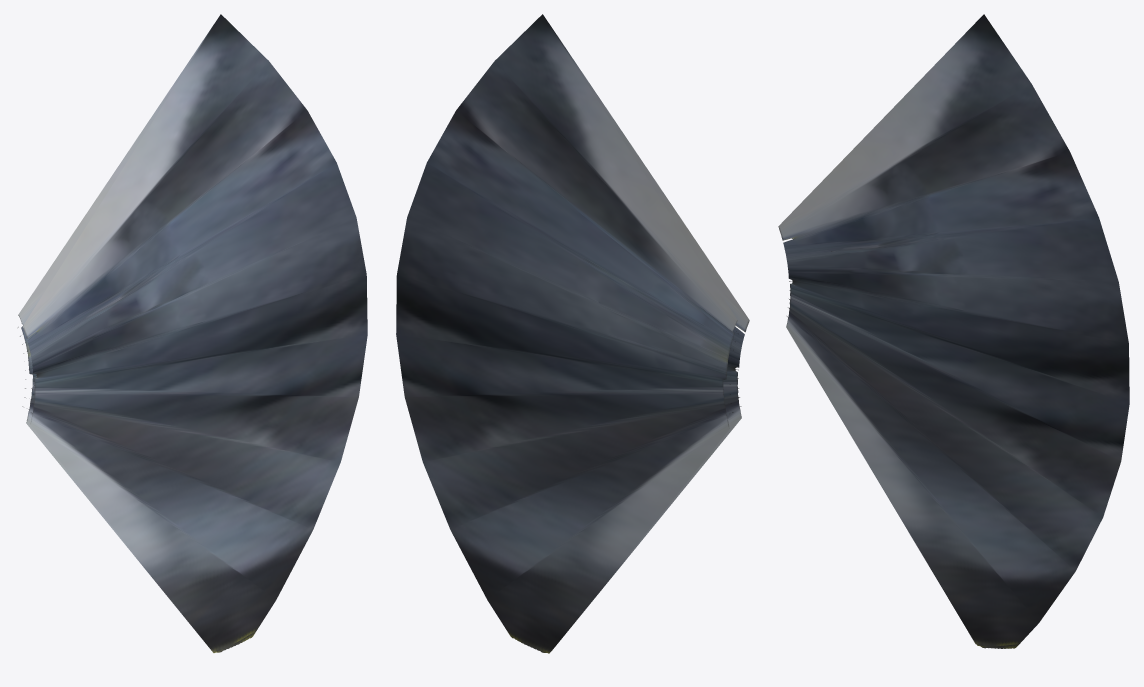
File: tail.obj
3 views of the same model, side by side, from view 1: azimuth 30°, elevation 25°; view 2: azimuth 150°, elevation 25°; view 3: azimuth 330°, elevation 25° (orthographic).
Bounding box in the file's own units: 0.3798 × 0.6867 × 0.0157.
